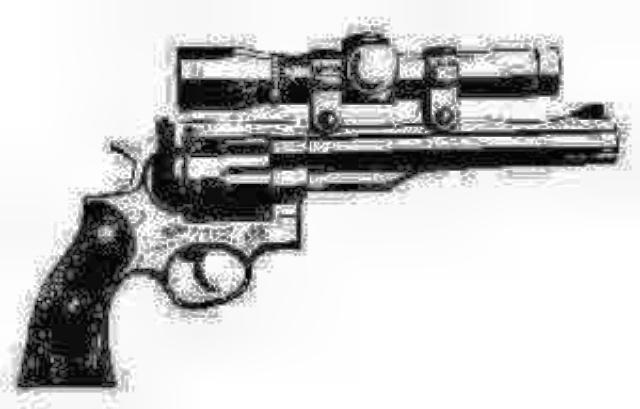pistol: (9, 94, 617, 386)
